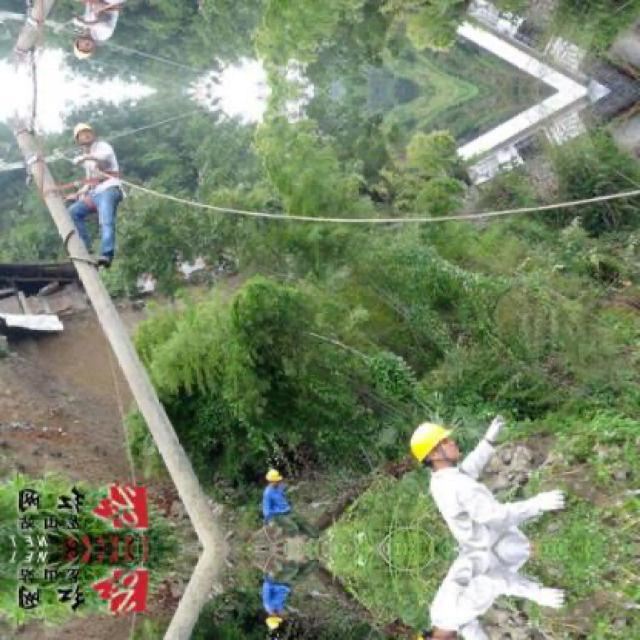con casco: (378, 388, 493, 484), (67, 103, 116, 148)
